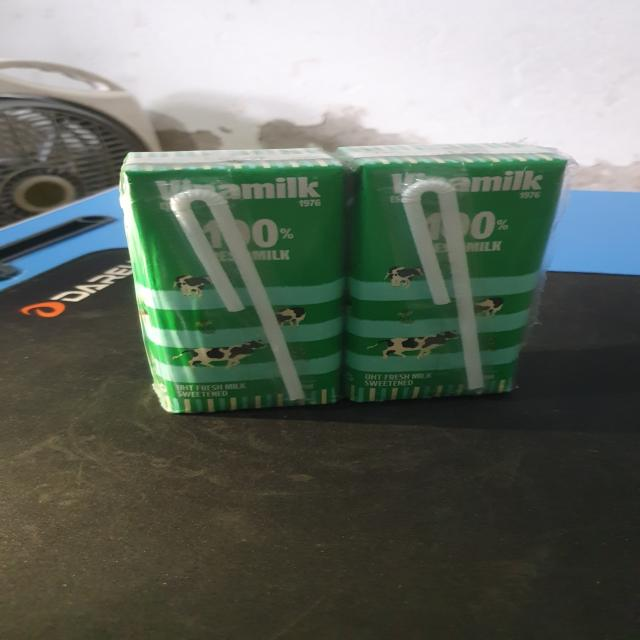Vina: (331, 138, 563, 403), (120, 145, 342, 418)
